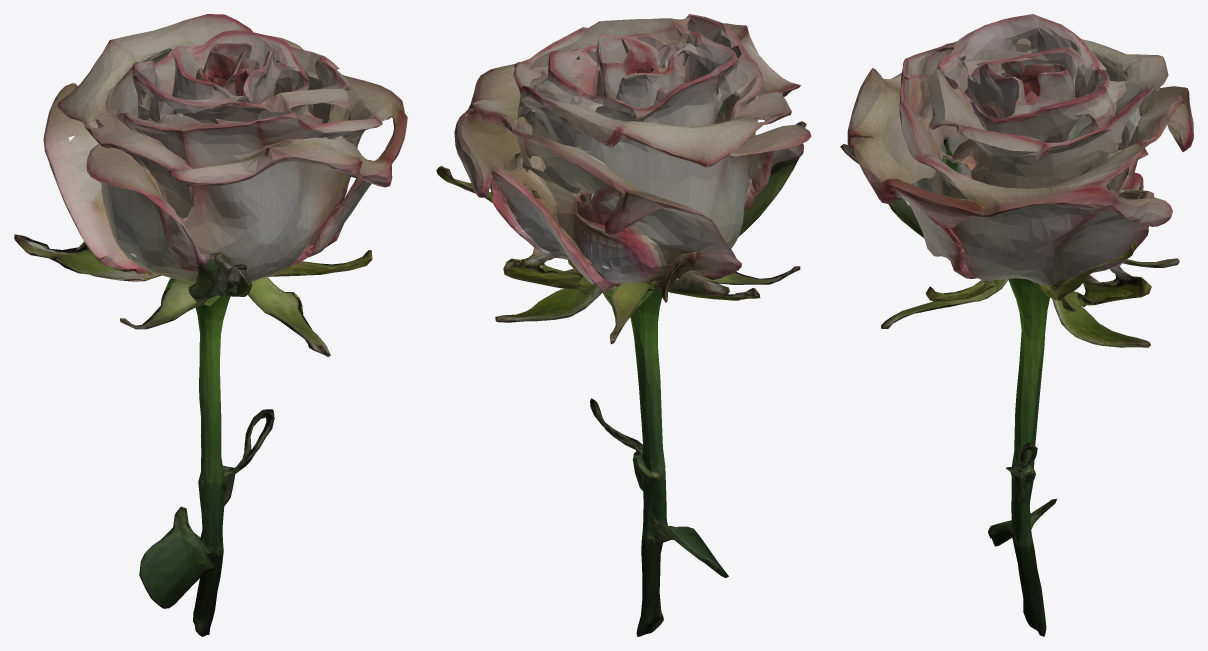
3 renders of one model, left to right at view 1: azimuth 30°, elevation 25°; view 2: azimuth 150°, elevation 25°; view 3: azimuth 270°, elevation 25°, orthographic.
Visible parts, largest first — view 1: world; view 2: world; view 3: world.
Boxes of the visible parts, left/top/right/bottom form: world: left=14, top=14, right=407, bottom=636; world: left=436, top=14, right=811, bottom=636; world: left=840, top=14, right=1193, bottom=636.
Size of the model in its own units: 0.5527 by 0.9411 by 0.514.
1 material, 1 textured.
